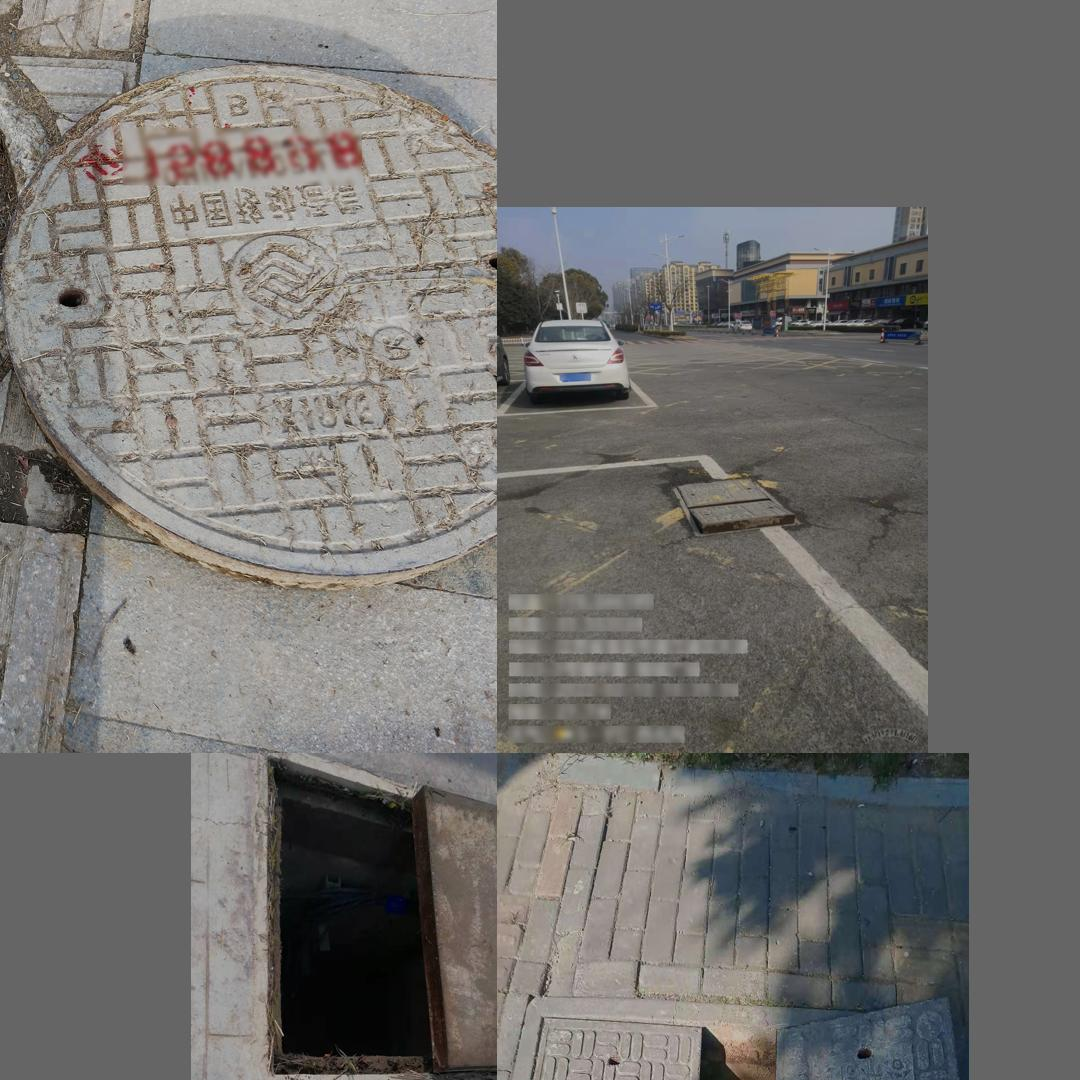uncovered: (0, 4, 496, 587), (269, 753, 493, 1076), (540, 976, 960, 1080), (673, 477, 800, 538)
